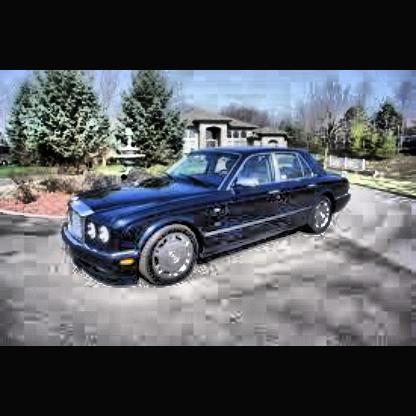Bentley Arnage Sedan 2009: (67, 147, 352, 287)
